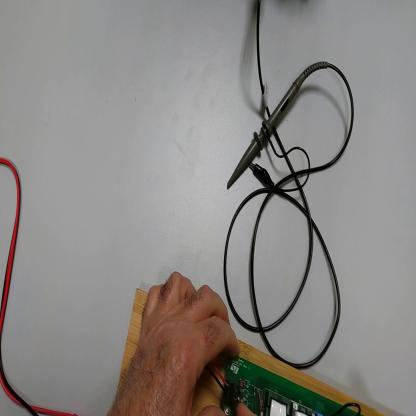hand: (106, 268, 241, 415)
high voltage board: (208, 359, 362, 416)
oscilloscope probe tip: (227, 77, 303, 190)
working area: (121, 289, 383, 415)
